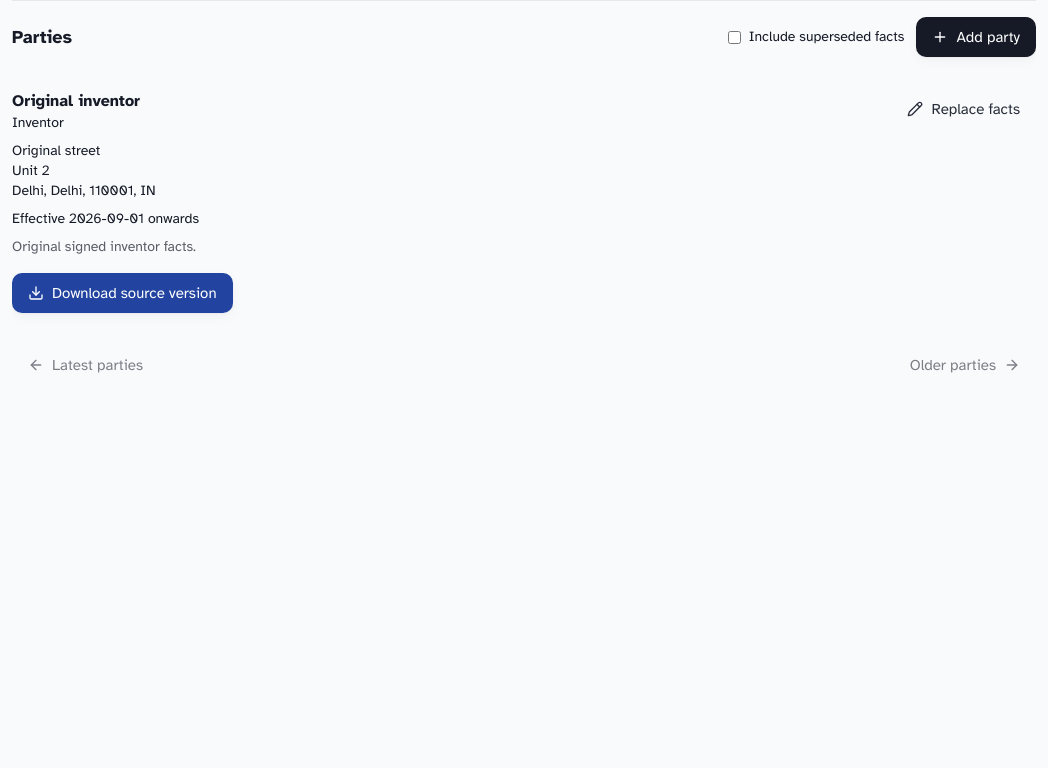
Test: Sourced patent party workspace › shows source-load failure and blocks saving without silently substituting evidence
Click the button "Replace facts".
click(964, 109)  # box [891,89,1036,129]
(page scrolled)
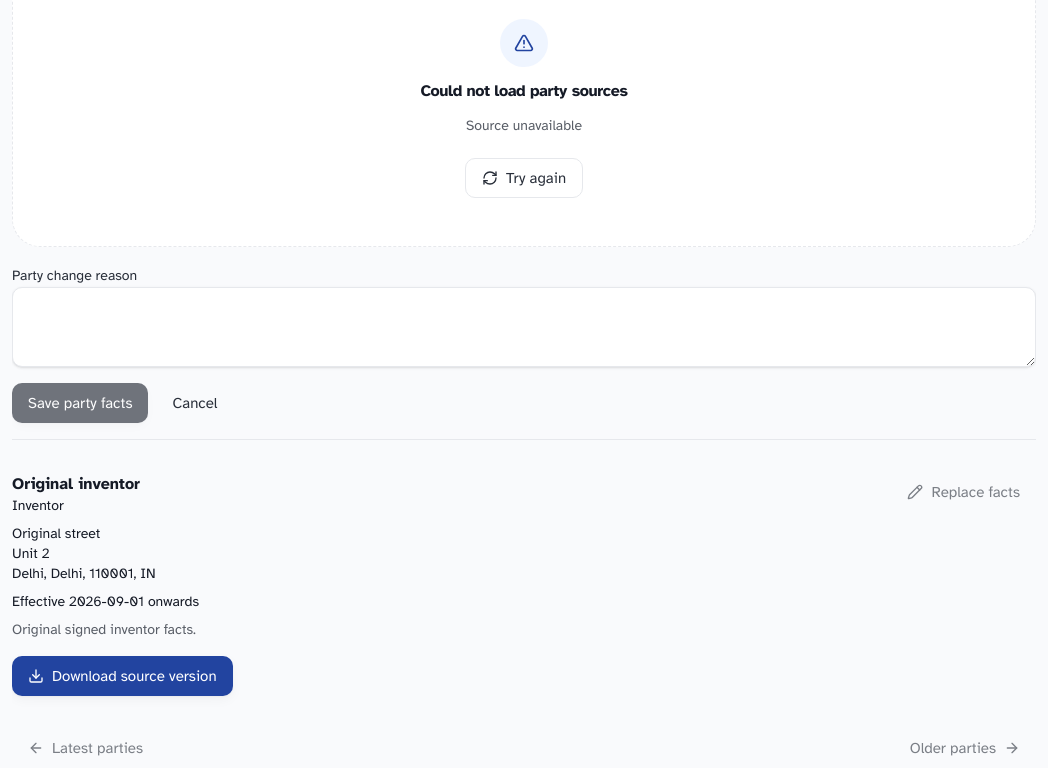
Now the heading "Could not load party sources" is shown, box [420,79,628,103]
Now the button "Save party facts" is disabled, box [12,383,148,423]
